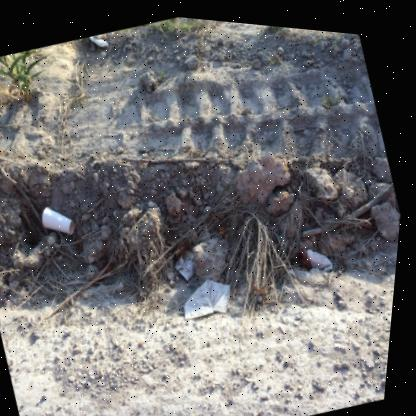Paper: (45, 205, 78, 232), (178, 244, 199, 276)
Plastic: (188, 274, 234, 315), (88, 33, 108, 44)
Waste: (310, 242, 336, 264), (232, 297, 235, 304), (182, 14, 185, 18)
